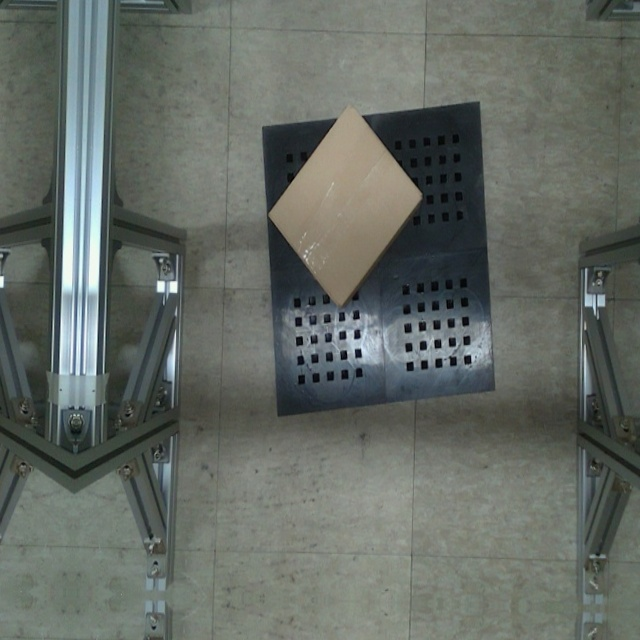box: (263, 103, 429, 313)
pallet: (246, 86, 511, 430)
